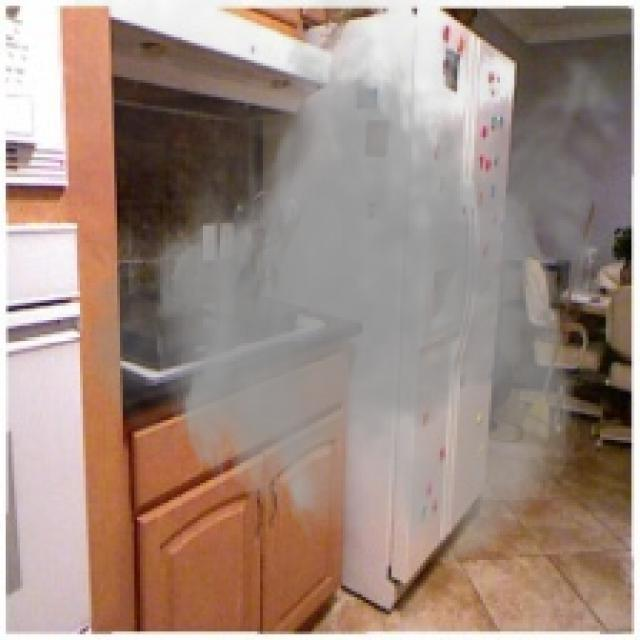Smoke: (74, 0, 637, 569)
